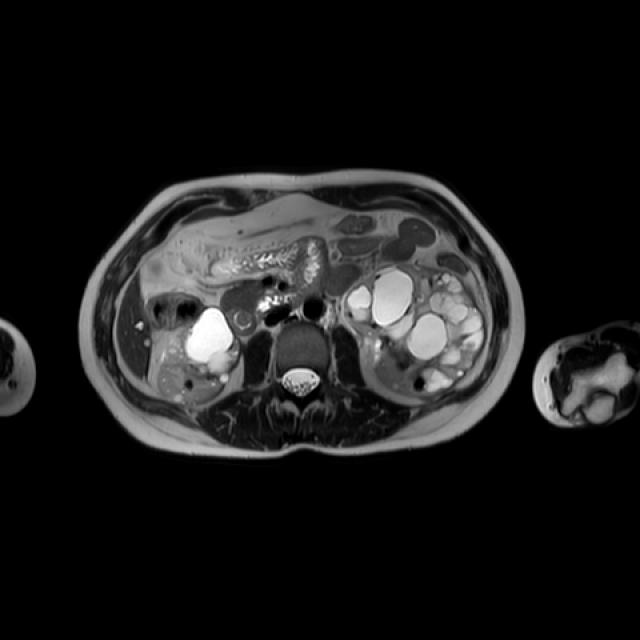sag: (155, 307, 243, 408)
sol: (342, 262, 486, 404)
